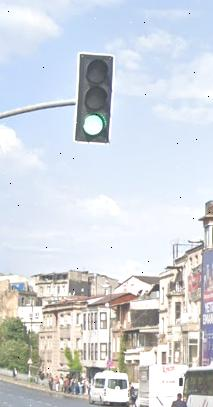greenlight: (76, 52, 113, 143)
